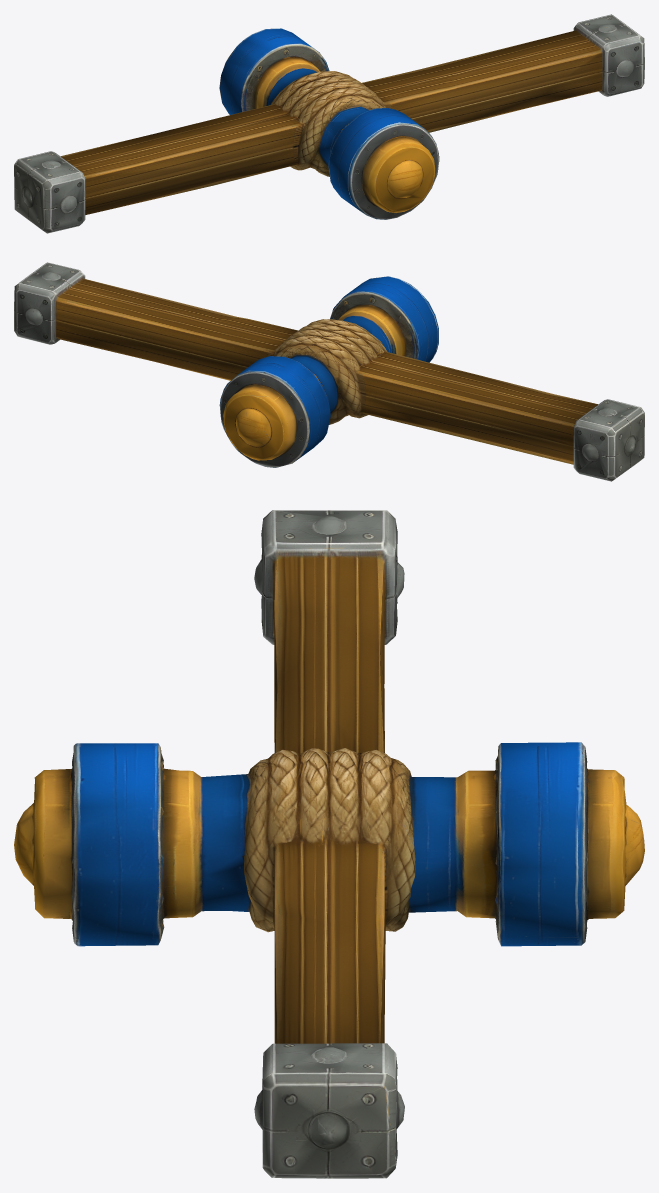
The model's file is SG03_Spoon_Rod.fbx.
3 views of the same model, one above another, from view 1: azimuth 30°, elevation 25°; view 2: azimuth 150°, elevation 25°; view 3: azimuth 270°, elevation 25° (orthographic). The views are drawn at different scales.
Visible parts, largest first — view 1: Mesh1.0; view 2: Mesh1.0; view 3: Mesh1.0.
Boxes of the visible parts, bbox=[...] form: Mesh1.0: bbox=[14, 14, 644, 233]; Mesh1.0: bbox=[14, 262, 644, 481]; Mesh1.0: bbox=[14, 510, 644, 1178].
Size of the model in its own units: 191 by 28.47 by 87.95.
1 material, 1 textured.
